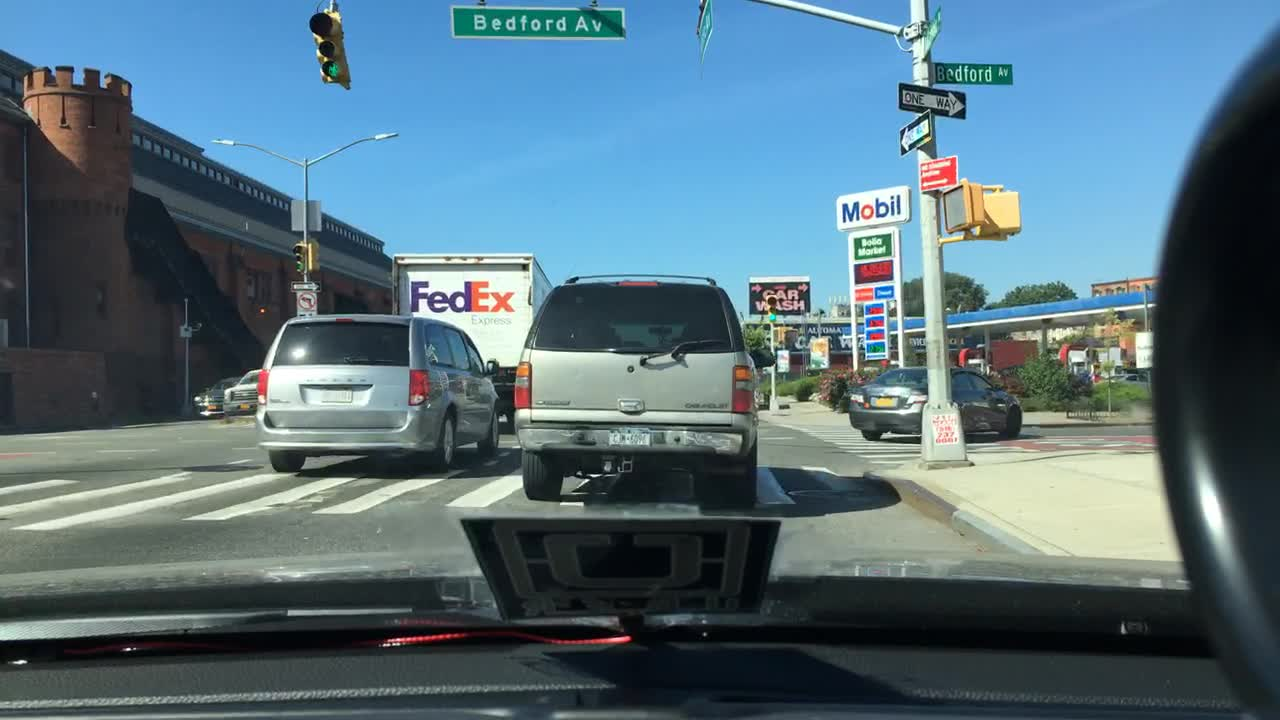car: (513, 271, 775, 505), (256, 312, 501, 473), (847, 363, 1021, 440), (192, 375, 240, 418), (221, 371, 263, 417), (1102, 370, 1150, 381), (751, 390, 769, 409)
traffic light: (308, 11, 351, 89), (943, 178, 983, 235), (978, 190, 1022, 236), (305, 240, 318, 271), (766, 291, 776, 322), (782, 327, 800, 344), (293, 242, 303, 272), (769, 328, 780, 345), (257, 303, 265, 315)
traffic sign: (451, 4, 625, 40), (895, 80, 969, 117), (930, 61, 1013, 83), (899, 108, 933, 157), (920, 155, 956, 190), (290, 196, 322, 232), (694, 0, 711, 67), (925, 8, 938, 60), (1135, 331, 1150, 365), (294, 290, 316, 313), (1096, 346, 1119, 365), (290, 279, 321, 292), (774, 350, 789, 372)
truck: (390, 251, 553, 427)
